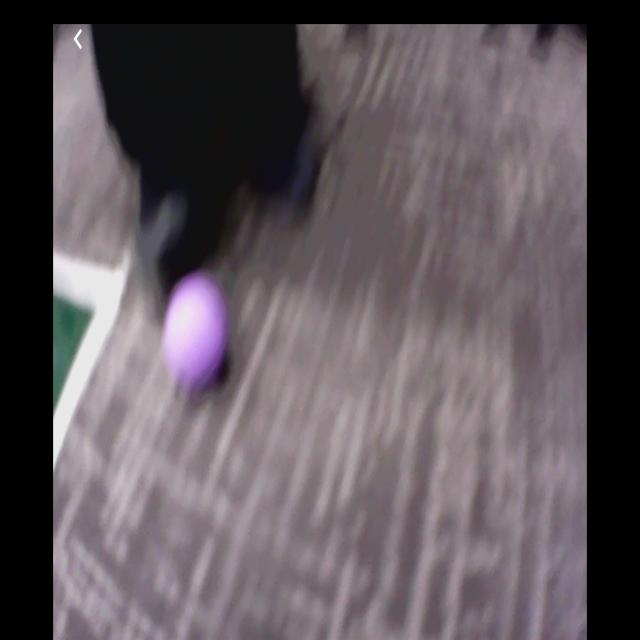ball: (162, 270, 231, 398)
